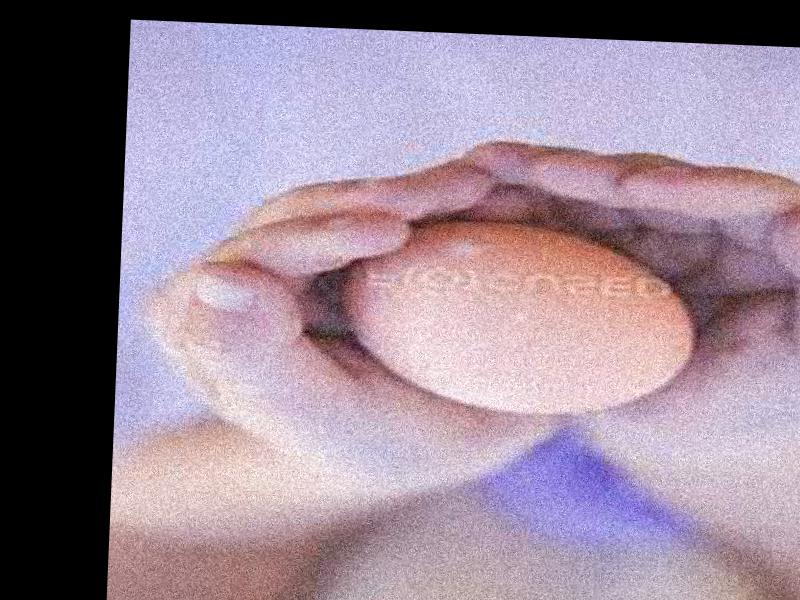Eggs: (342, 216, 704, 422)
